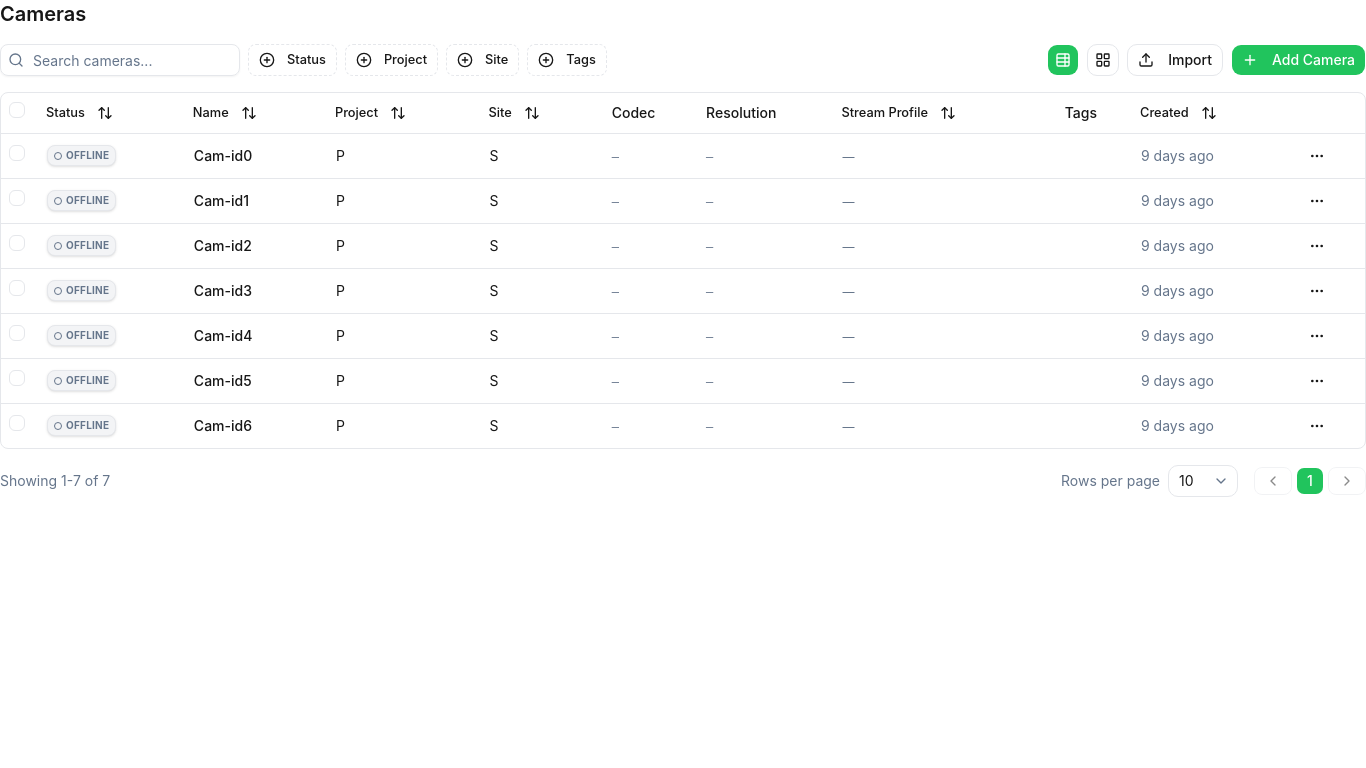
Test case: TenantCamerasPage — delete confirm (D-06b) › Dialog lists first 5 camera names when selection size 7 with "+2 more" suffix
Click the checkbox named "Select all cameras on this page" at (17,110), box [9,102,25,118]
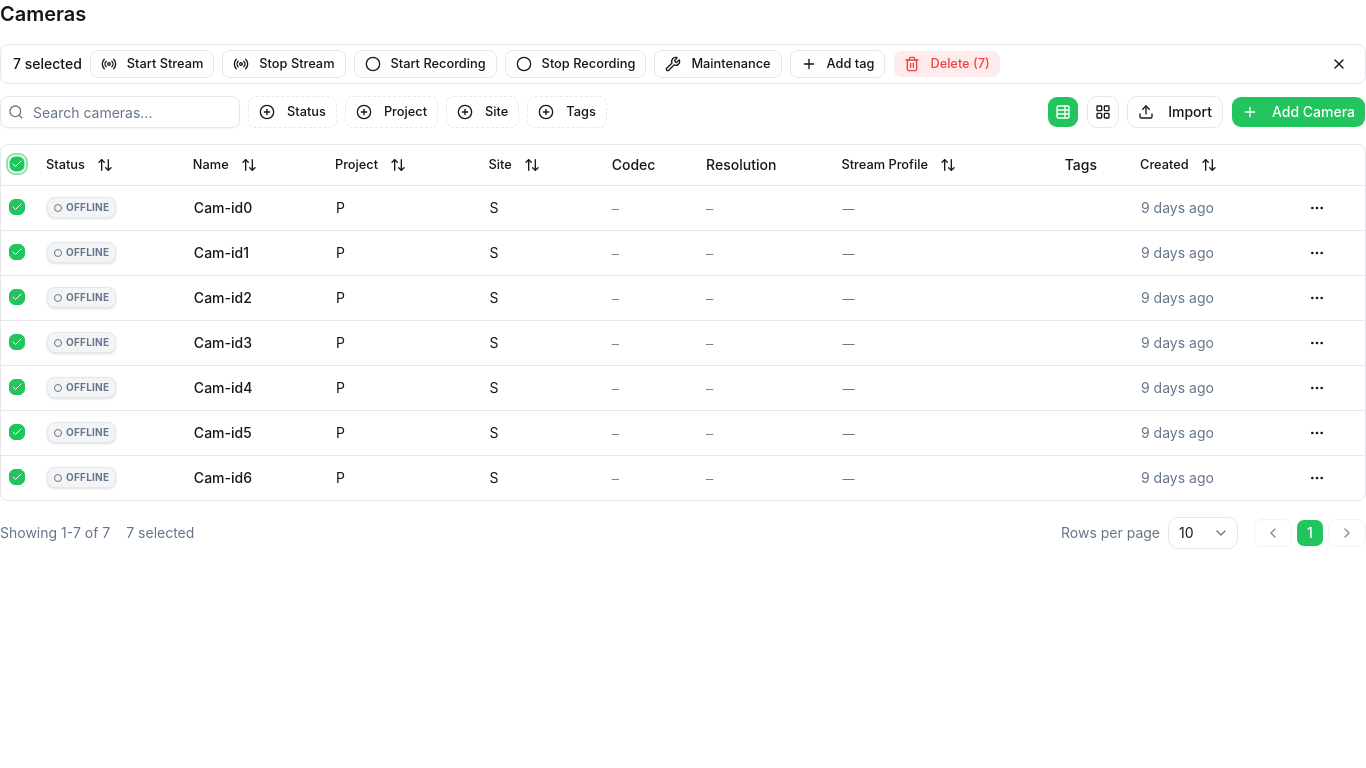
Click the button "Delete (7)" at (947,64), box [893,50,1001,78]
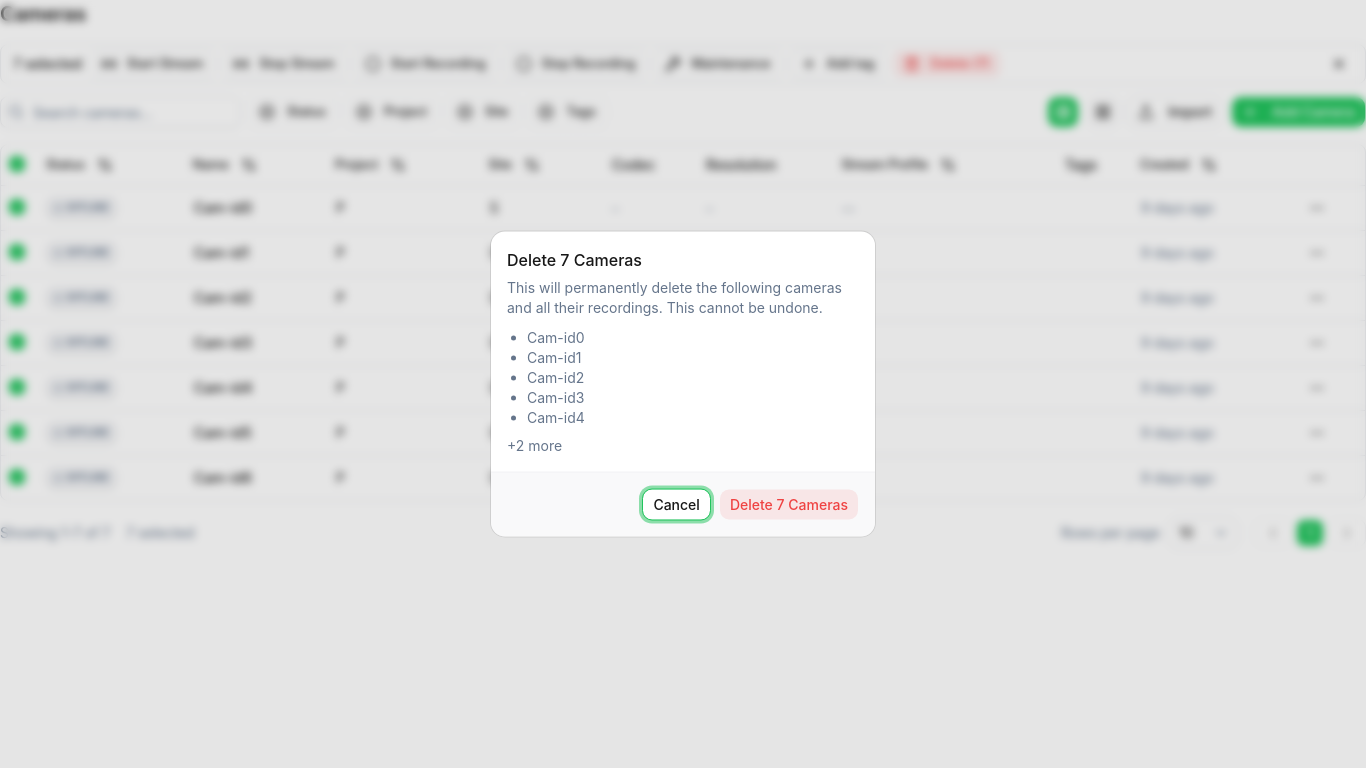
Result: the dialog "Delete 7 Cameras" is shown at [491,232,875,536]
Result: the text "+2 more" is shown at [507,436,562,454]
Result: the number of list items "Cam-id0" is 5 at [527,328,585,348]; [527,348,585,368]; [527,368,585,388]; [527,388,585,408]; [527,408,585,428]
